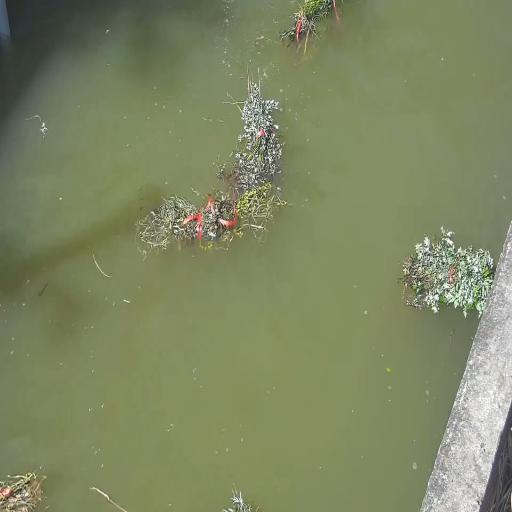twig: (138, 184, 282, 254), (399, 227, 494, 316), (230, 63, 284, 189), (280, 1, 338, 52), (2, 469, 52, 512), (222, 485, 258, 512)
